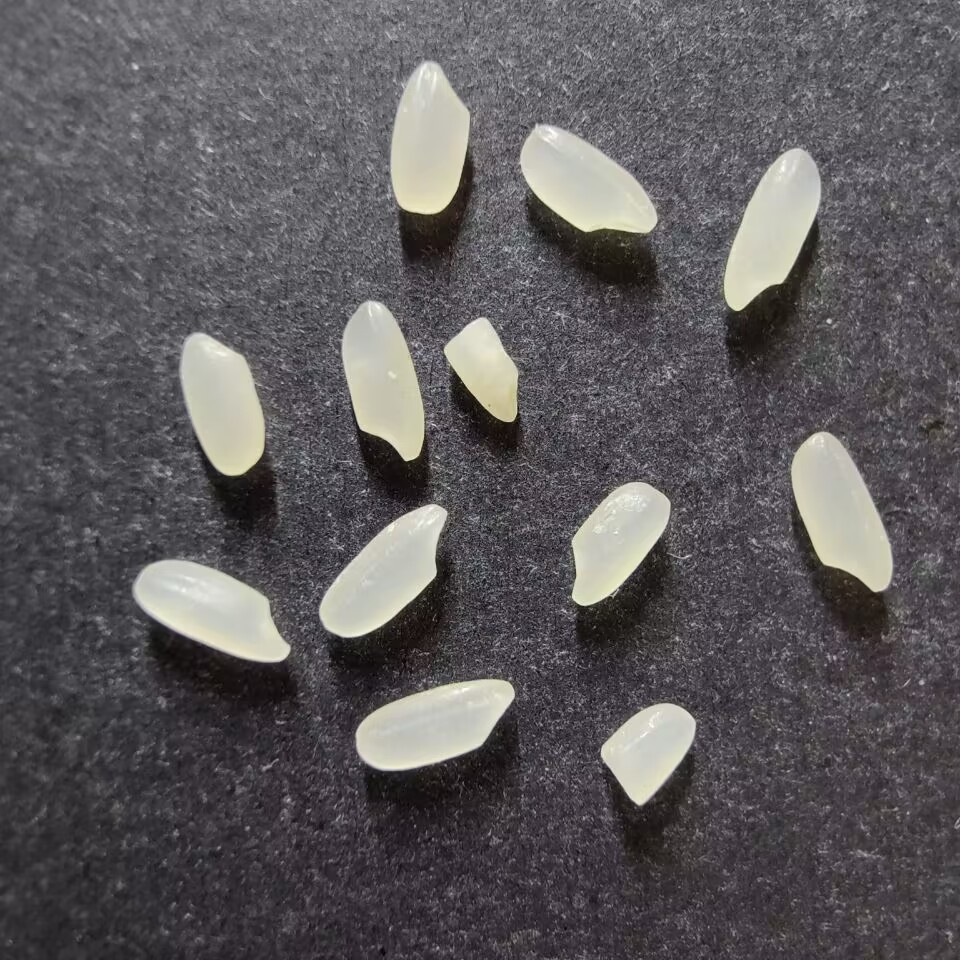broken: (599, 702, 696, 807), (441, 316, 519, 423)
rice: (318, 503, 447, 639), (790, 431, 892, 593), (133, 558, 290, 663), (722, 148, 822, 311), (519, 124, 657, 235), (355, 678, 516, 770), (341, 300, 425, 462), (570, 480, 670, 607), (389, 61, 470, 215), (180, 332, 265, 476)
